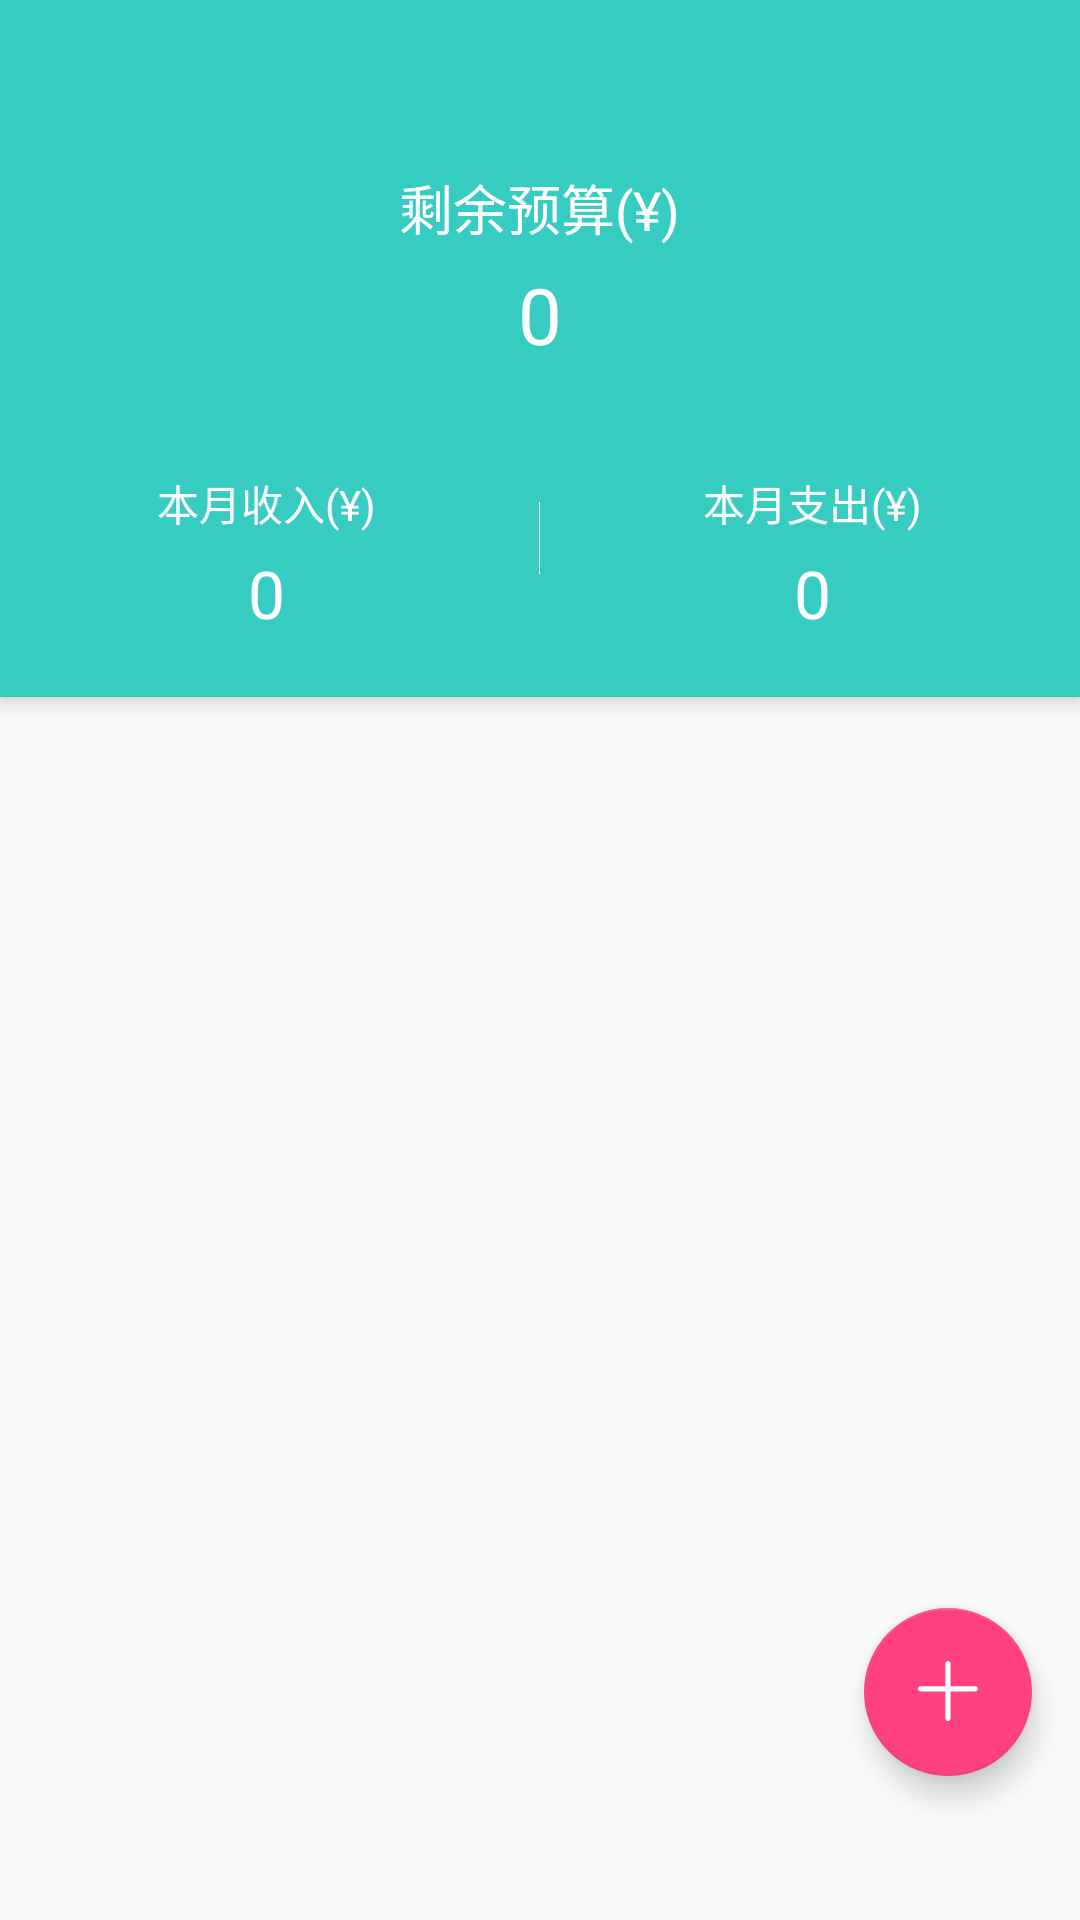

Locate icon controls on the screen. Image size 1080px x 1920px, boxes as (x1, y1, x2, y2).
add: (864, 1608, 1032, 1776)
